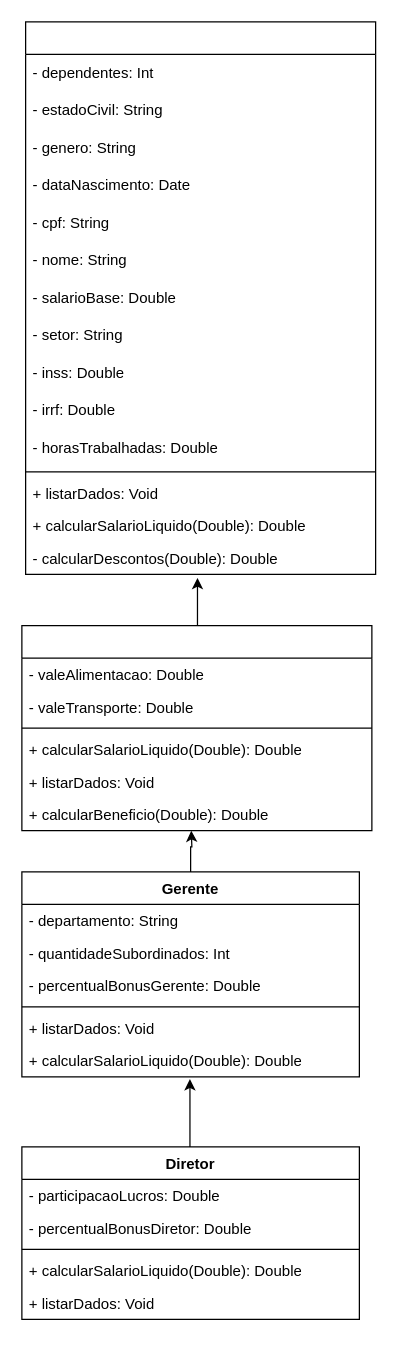
Some shapes in this 398 by 1345 pixel diagram are drawn without their labels. The box of each missing label's shape, as (x1, y1, x2, y2) in pixels:
Funcionario: (24, 21, 376, 574)
FuncionarioClt: (21, 624, 372, 831)
